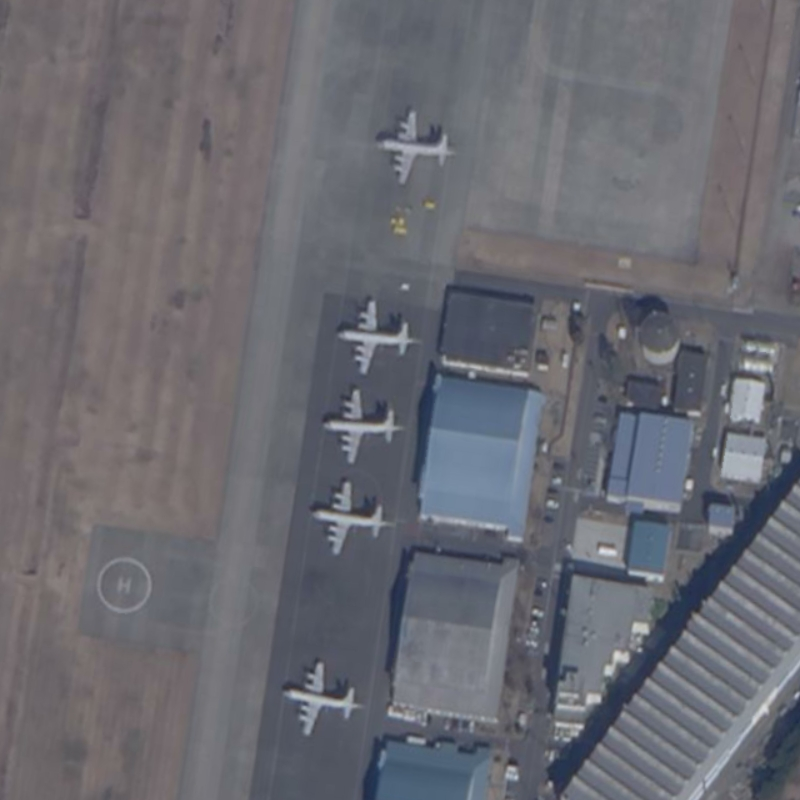A9: (330, 291, 423, 384), (302, 473, 398, 562), (311, 380, 409, 466), (278, 654, 370, 743), (374, 100, 463, 189)
